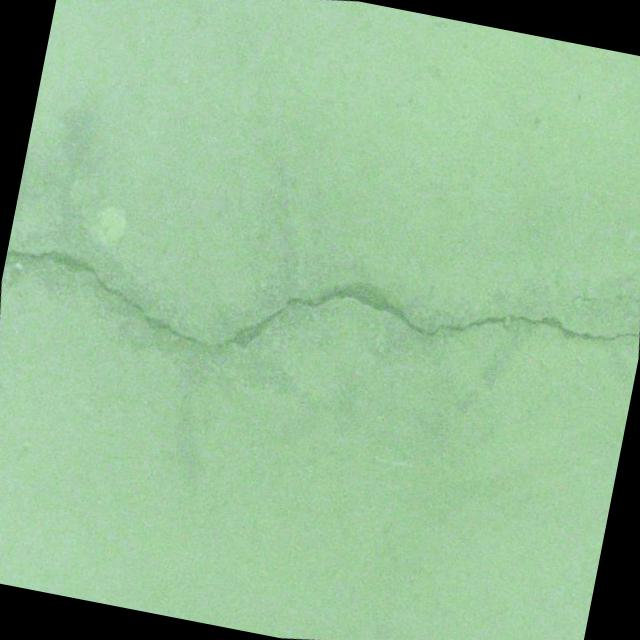crack: (0, 159, 640, 459), (533, 276, 640, 325)
